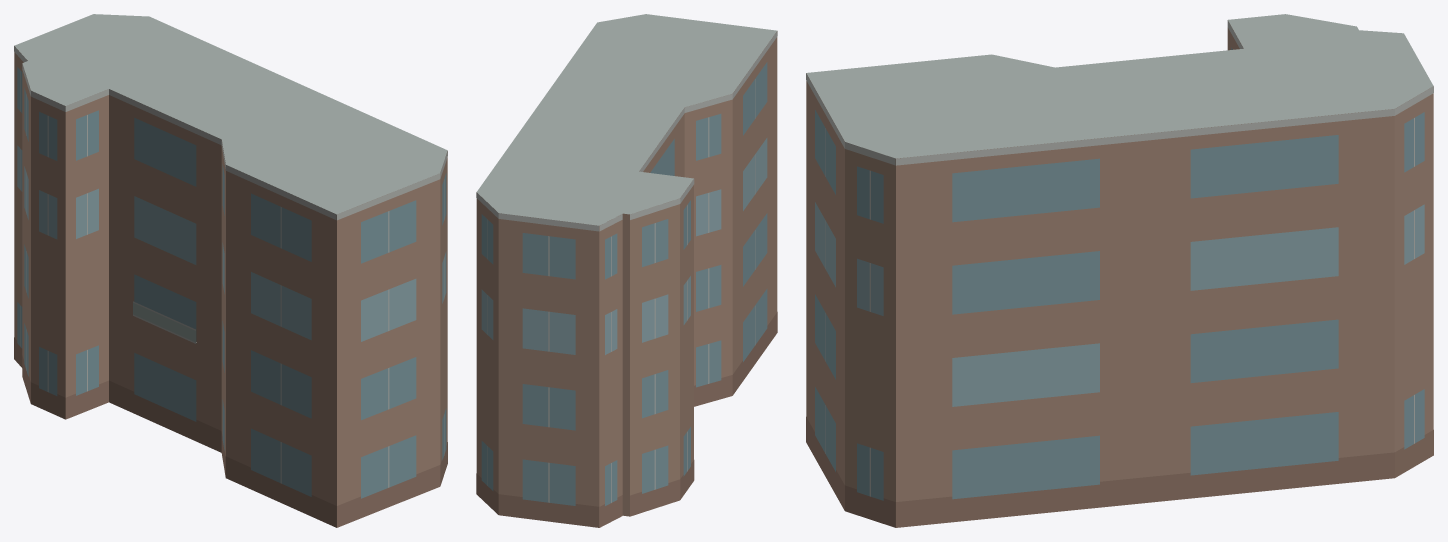
The model's file is survey-upis-32625601.glb.
3 renders of one model, left to right at view 1: azimuth 30°, elevation 25°; view 2: azimuth 150°, elevation 25°; view 3: azimuth 270°, elevation 25°, orthographic. The views are drawn at different scales.
Parts seen in each view (by area): view 1: survey-upis-32625601.tmp; view 2: survey-upis-32625601.tmp; view 3: survey-upis-32625601.tmp.
Part boxes in pixels (x1=…): survey-upis-32625601.tmp: x1=14, y1=14, x2=447, y2=527; survey-upis-32625601.tmp: x1=476, y1=14, x2=777, y2=527; survey-upis-32625601.tmp: x1=806, y1=14, x2=1433, y2=527.
Size of the model in its own units: 10.71 by 12.75 by 19.64.
